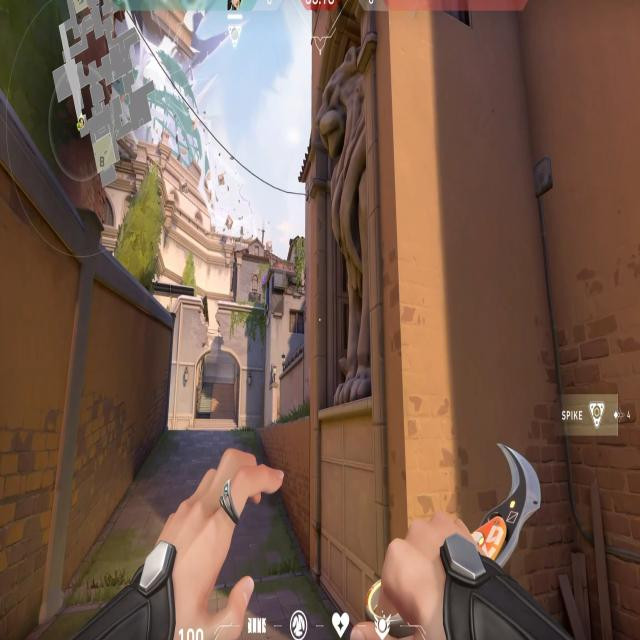Lion_Corner: (305, 100, 416, 420)
